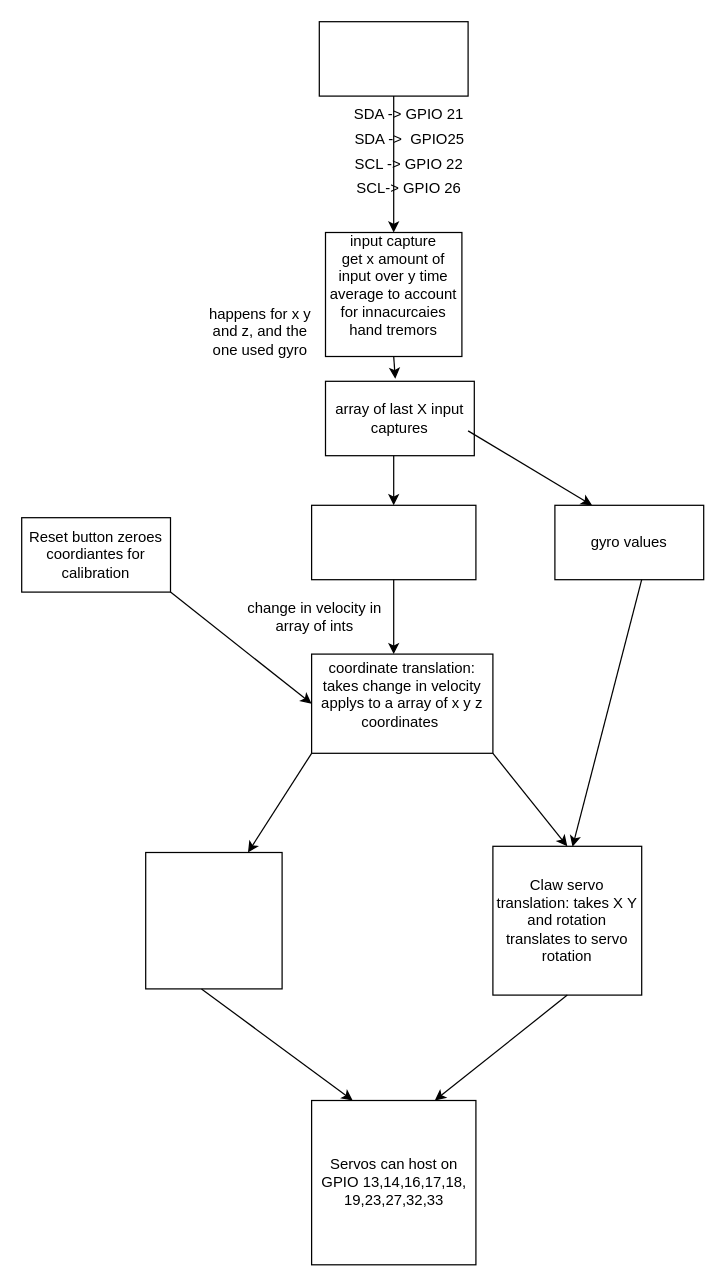
Some shapes in this 725 by 1287 pixel diagram are drawn without their labels. The centre of each missing label's shape, as x and y in pixels:
"Arm servo translation: takes x y z and translates to servo rotation" belongs at (x=213, y=920).
"checks last 2 accel values determines change in velocity" belongs at (x=393, y=542).
"IMU ARRAY" belongs at (x=393, y=58).
